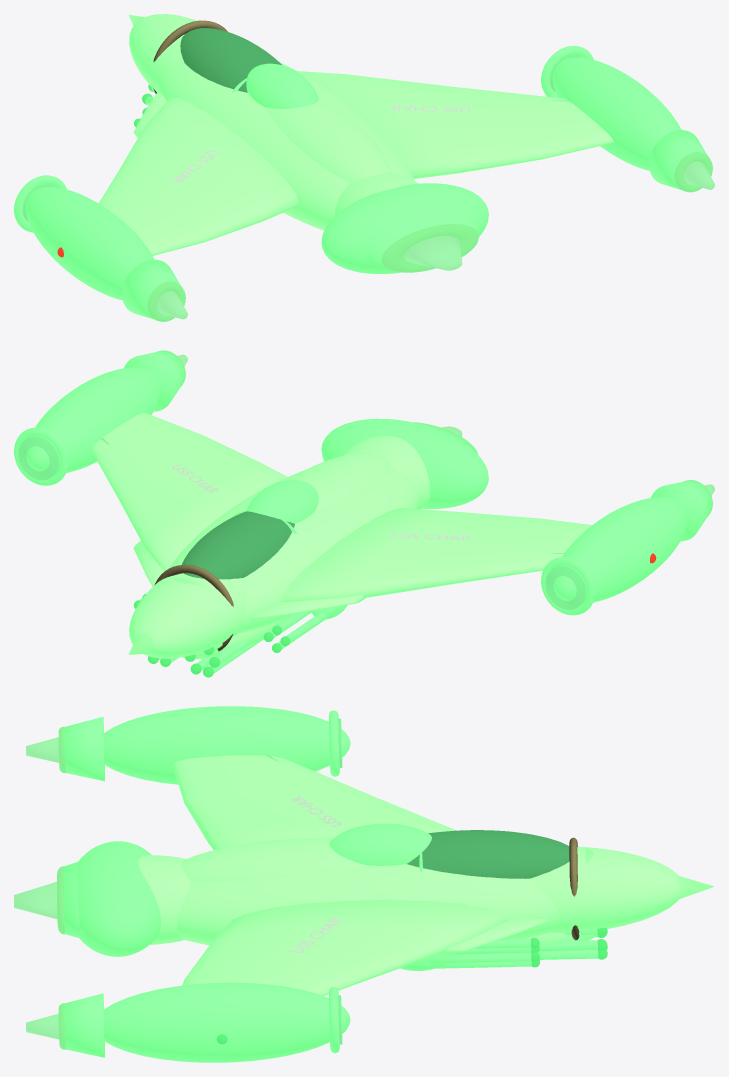
The model's file is uss-char.glb.
The picture shows the model from 3 angles, top to bottom: view 1: azimuth 30°, elevation 25°; view 2: azimuth 150°, elevation 25°; view 3: azimuth 270°, elevation 25°; orthographic projection. The views are drawn at different scales.
Parts seen in each view (by area): view 1: WingL, WingR, Fuselage, NacelleL, NacelleR, CenterEngine, Dorsal, Canopy, NoseFairing, SensorPod, ThrusterC, NozzleBellL (+12 smaller); view 2: WingL, WingR, Fuselage, NacelleL, NoseFairing, NacelleR, CenterEngine, Canopy, Dorsal, SensorPod, Tail, NozzleBellR (+10 smaller); view 3: WingR, NacelleR, WingL, Fuselage, NacelleL, NoseFairing, CenterEngine, Canopy, Dorsal, SensorPod, Tail, NozzleBellR (+10 smaller).
Boxes of the visible parts, x1,y1,x2,y2 form: WingL: (98, 97, 298, 255); WingR: (298, 71, 613, 178); Fuselage: (156, 62, 414, 230); NacelleL: (25, 187, 154, 300); NacelleR: (552, 57, 681, 170); CenterEngine: (321, 183, 488, 273); Dorsal: (264, 97, 391, 182); Canopy: (180, 28, 281, 92); NoseFairing: (129, 14, 197, 92); SensorPod: (246, 63, 318, 108); ThrusterC: (381, 224, 478, 272); NozzleBellL: (122, 259, 180, 319); WingL: (280, 508, 591, 602); WingR: (91, 413, 287, 571); Fuselage: (168, 468, 420, 633); NacelleL: (553, 497, 687, 602); NoseFairing: (129, 573, 246, 658); NacelleR: (26, 367, 160, 472); CenterEngine: (321, 418, 488, 508); Canopy: (182, 511, 294, 579); Dorsal: (288, 452, 391, 511); SensorPod: (247, 480, 318, 523); Tail: (343, 436, 430, 509); NozzleBellR: (124, 351, 184, 411); WingR: (182, 899, 508, 996); NacelleR: (103, 982, 350, 1062); WingL: (173, 755, 456, 849); Fuselage: (177, 864, 560, 945); NacelleL: (103, 706, 350, 784); NoseFairing: (530, 846, 680, 932); CenterEngine: (77, 841, 160, 956); Canopy: (407, 830, 569, 878); Dorsal: (181, 837, 367, 882); SensorPod: (329, 823, 431, 865); Tail: (138, 855, 190, 944); NozzleBellR: (64, 993, 104, 1057).
Size of the model in its own units: 8.21 by 1.53 by 7.73.
